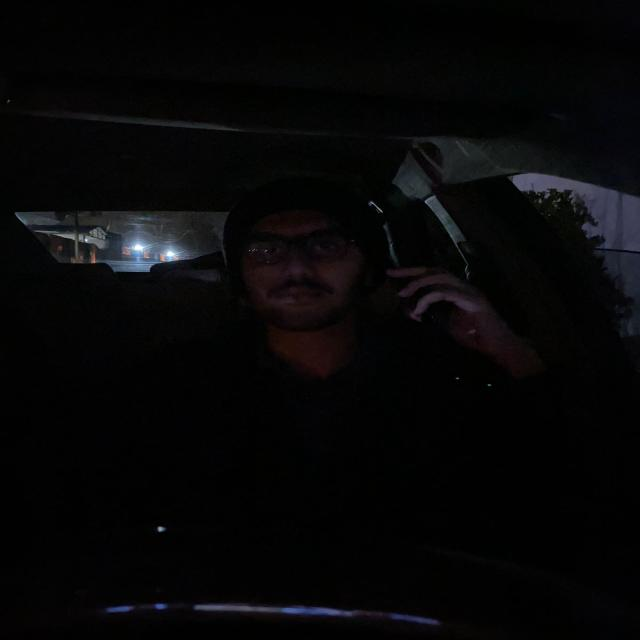phone: (382, 200, 440, 322)
